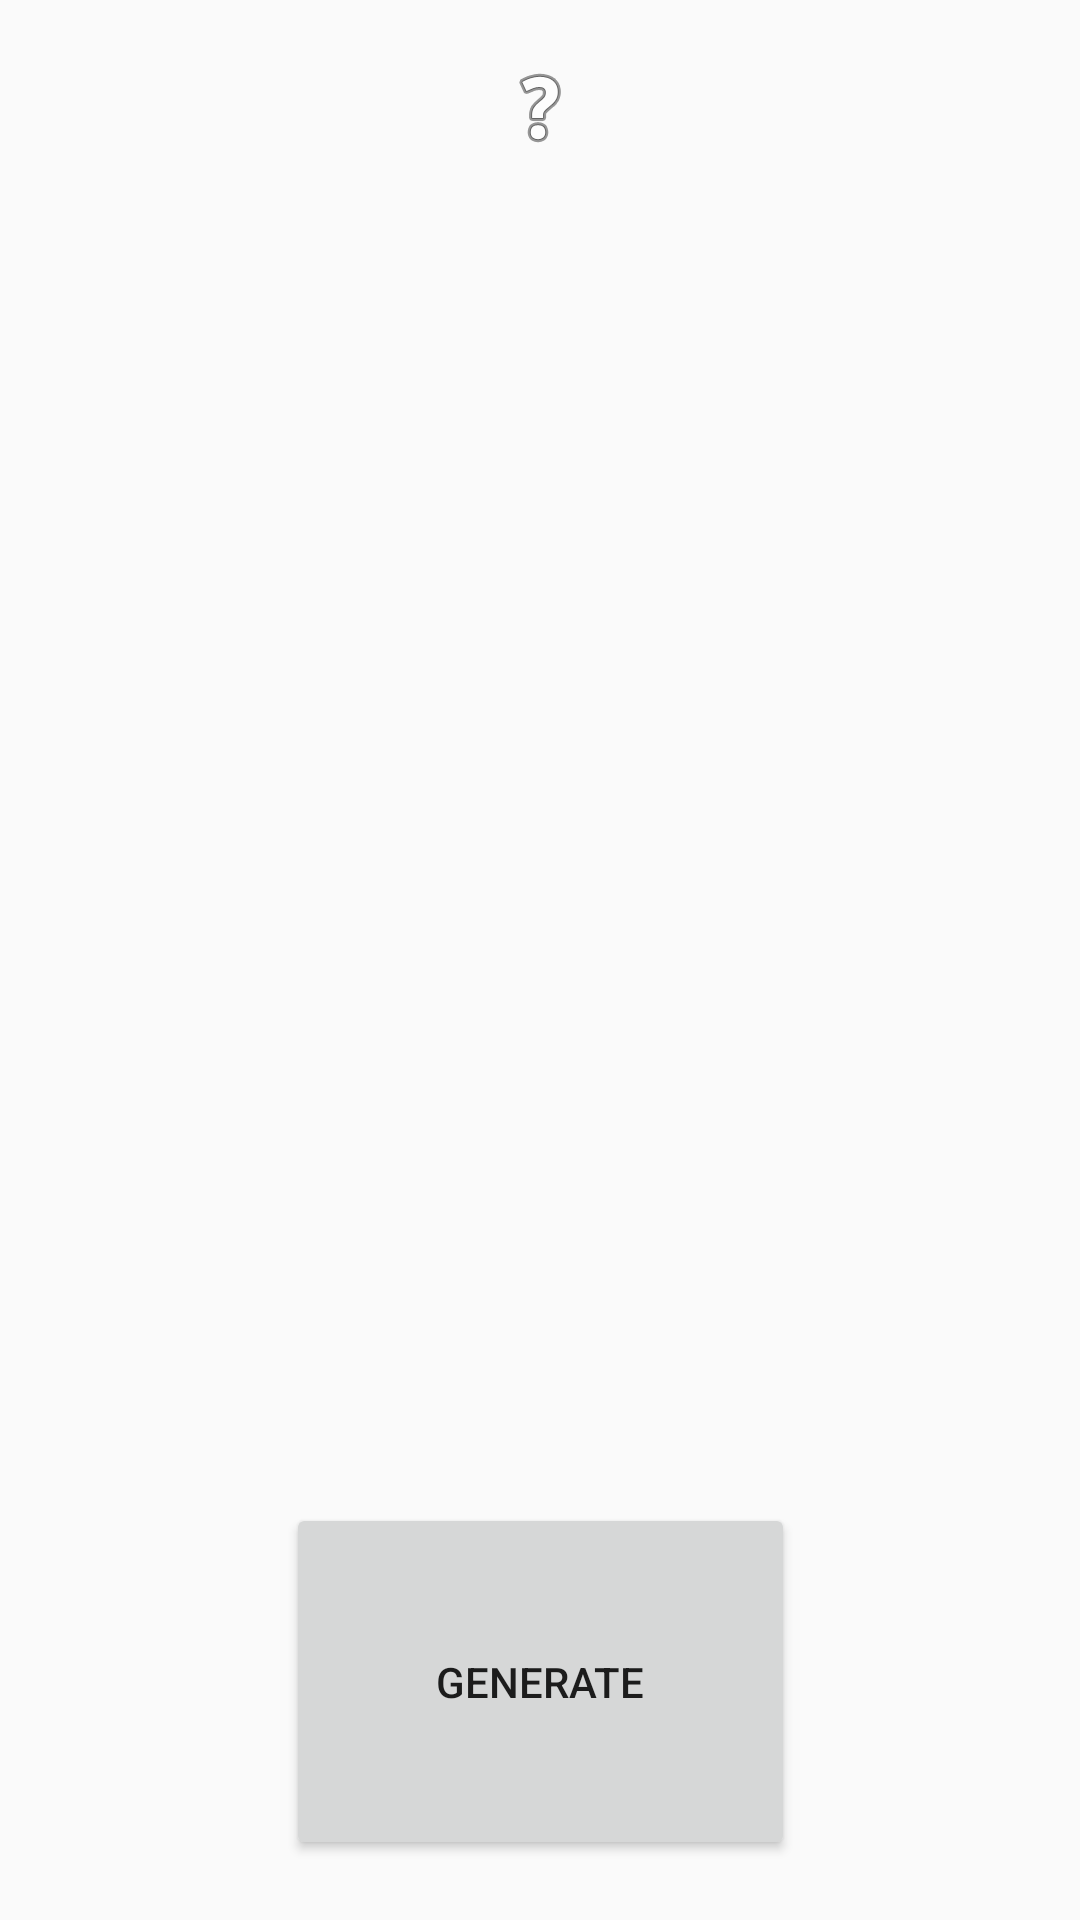

Screen size 1080 × 1920. Icon name, then its center in pixels as (x,y):
help: (540,108)
